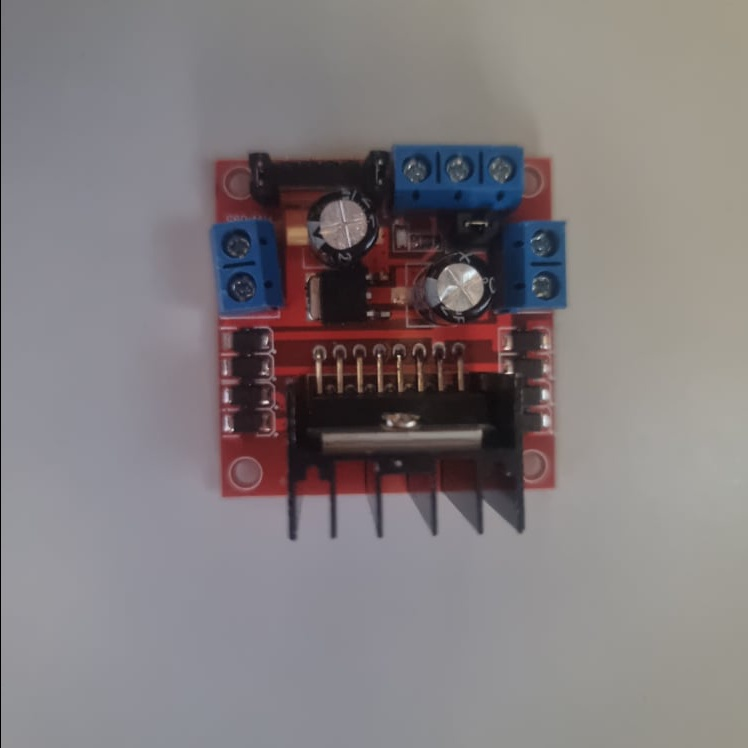MOTOR: (203, 142, 569, 545)
